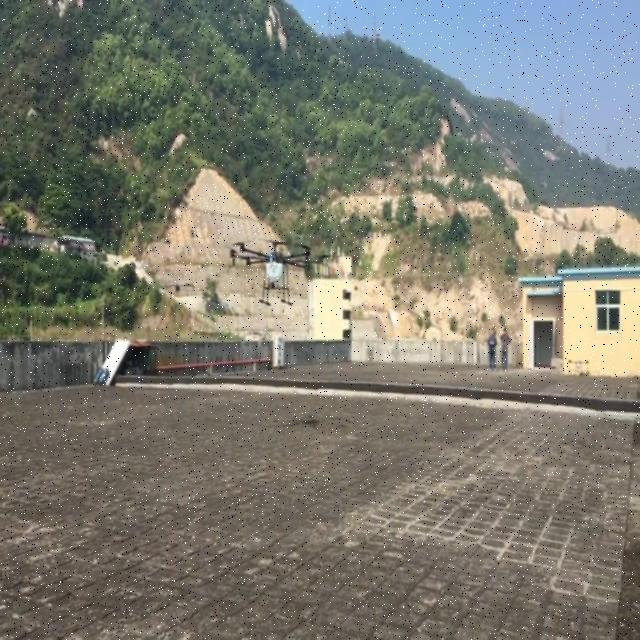UAV: (228, 239, 334, 307)
